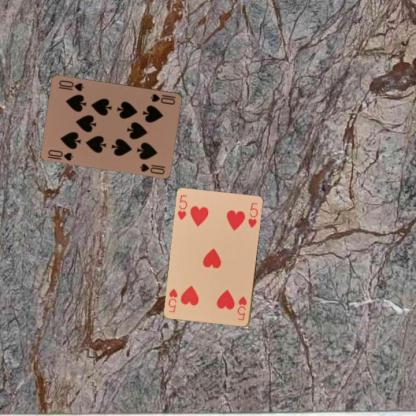10s: (45, 147, 74, 162), (149, 90, 176, 106)
5h: (175, 192, 188, 222), (235, 294, 248, 322)
